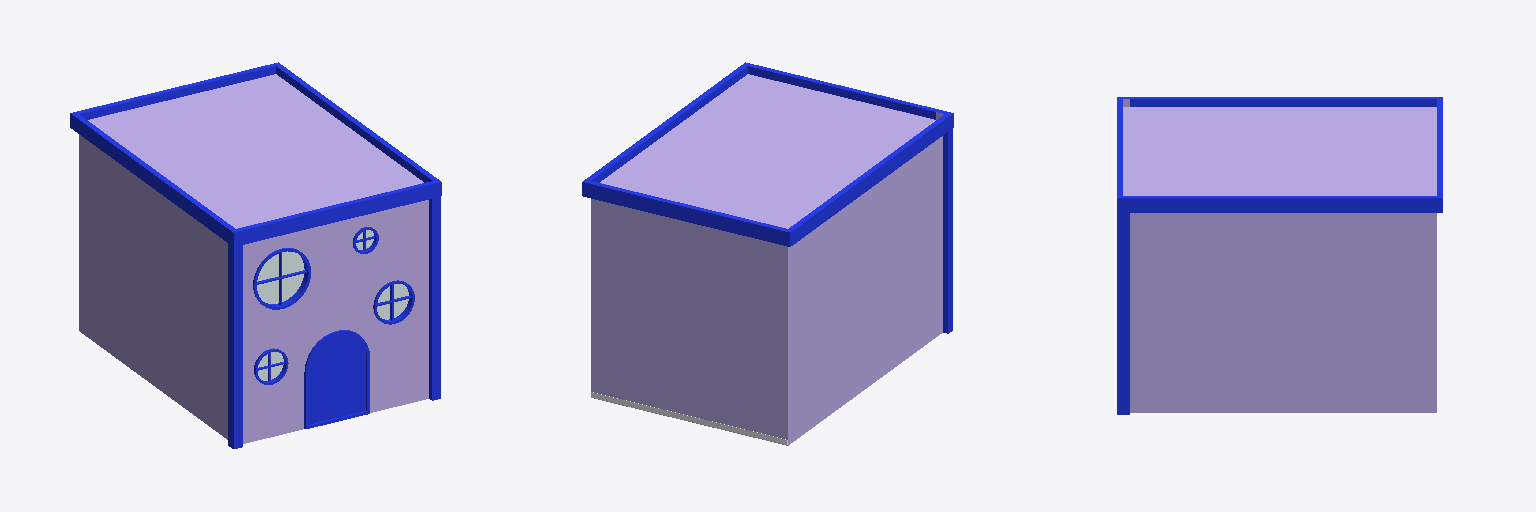
Rendered from building_3.obj.
3 views of the same model, side by side, from view 1: azimuth 30°, elevation 25°; view 2: azimuth 150°, elevation 25°; view 3: azimuth 270°, elevation 25° (orthographic).
Parts seen in each view (by area): view 1: Cube.005_m_turuncu, Cube.005_m_koyupembe.002, Cube.005_m_cam; view 2: Cube.005_m_turuncu, Cube.005_m_koyupembe.002, Cube.005_m_beyaz; view 3: Cube.005_m_turuncu, Cube.005_m_koyupembe.002.
Boxes of the visible parts, x1=… form: Cube.005_m_turuncu: x1=79, y1=74, x2=428, y2=443; Cube.005_m_koyupembe.002: x1=70, y1=62, x2=441, y2=448; Cube.005_m_cam: x1=257, y1=230, x2=408, y2=380; Cube.005_m_turuncu: x1=591, y1=74, x2=943, y2=445; Cube.005_m_koyupembe.002: x1=582, y1=62, x2=953, y2=333; Cube.005_m_beyaz: x1=591, y1=392, x2=787, y2=444; Cube.005_m_turuncu: x1=1123, y1=99, x2=1436, y2=412; Cube.005_m_koyupembe.002: x1=1117, y1=97, x2=1442, y2=414.
Bounding box in the file's own units: 138 × 137 × 187.